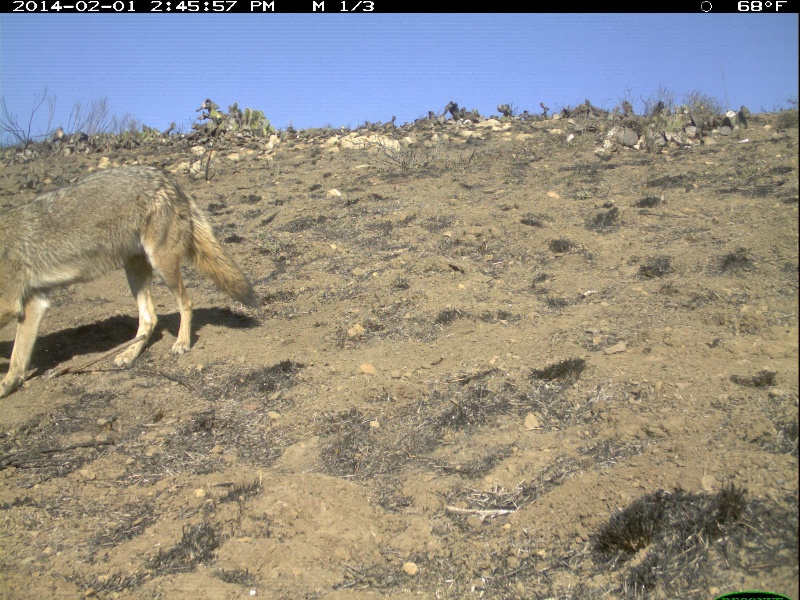coyote: (1, 160, 268, 405)
